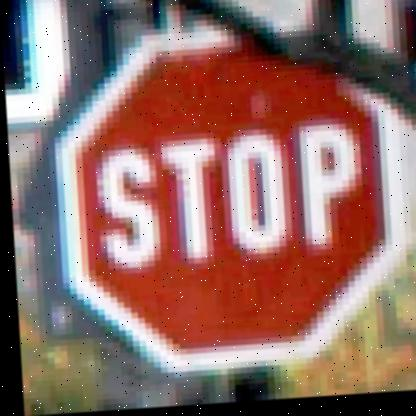Stop Sign: (49, 0, 416, 382)
